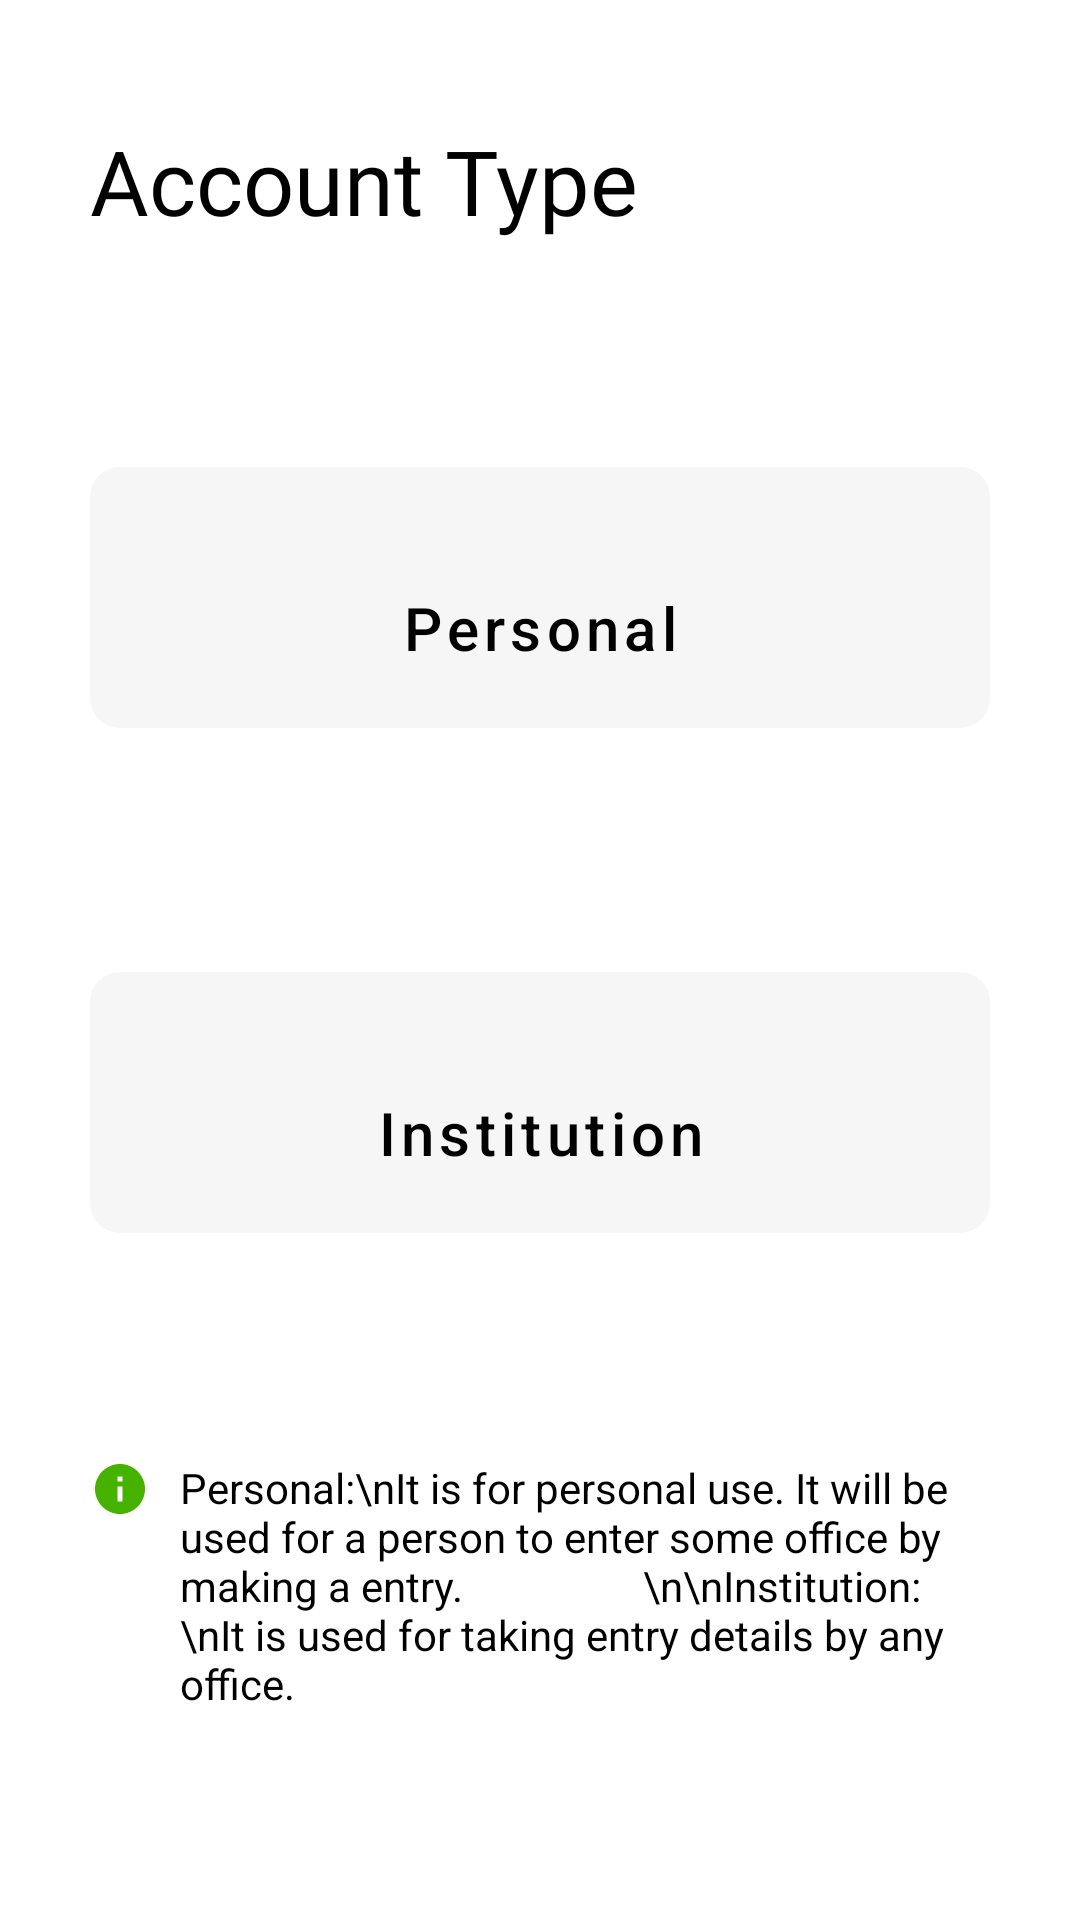

Named icons in this screenshot (1080px×1920px) and their bounding boxes, (x1, y1, x2, y2):
info: (95, 1464, 145, 1514)
